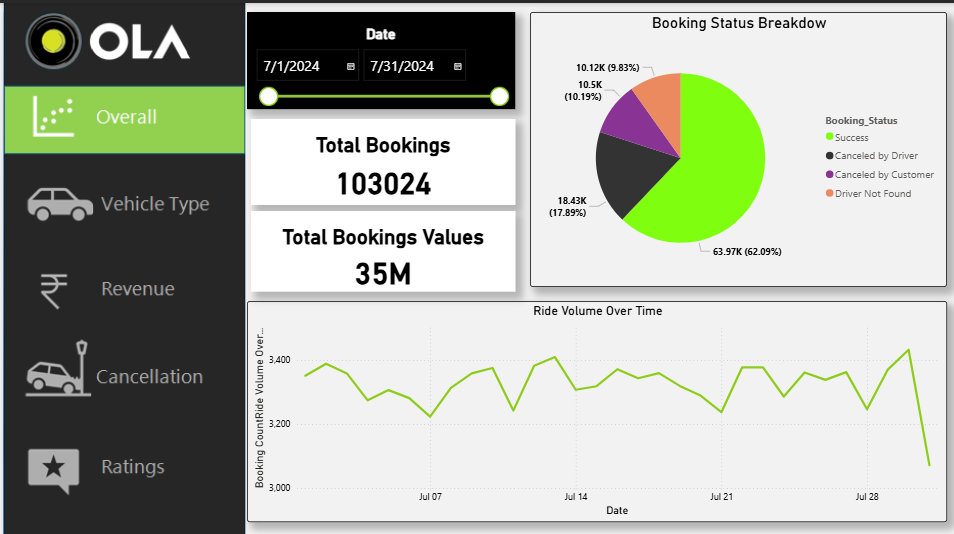

The page's visual inventory and layout, read from the dashboard file:
{"tool":"powerbi","page":{"name":"Overall","canvas":[1280,720],"ordinal":0},"visuals":[{"type":"actionButton","box":[0,212,326.2,92.2],"z":0},{"type":"actionButton","box":[0,333.1,326.2,92.2],"z":1000},{"type":"actionButton","box":[0,454.2,326.2,92.2],"z":2000},{"type":"actionButton","box":[0,579.4,326.2,92.2],"z":3000},{"type":"actionButton","box":[9.6,342.7,316.6,92.2],"z":4000},{"type":"actionButton","box":[0,573.9,326.2,92.2],"z":5000},{"type":"lineChart","title":"Ride Volume Over Time","fields":{"Y":["CountNonNull(July_Sheet.Booking_ID)"],"Category":["July_Sheet.Date"]},"box":[326.8,398.5,937.3,296.5],"z":6000},{"type":"pieChart","title":"Booking Status Breakdow","fields":{"Category":["July_Sheet.Booking_Status"],"Y":["CountNonNull(July_Sheet.Booking_Status)"]},"box":[705.3,12,558.1,368],"z":7000},{"type":"slicer","title":"Date","fields":{"Values":["July_Sheet.Date"]},"box":[326.5,12,358.7,129.8],"z":8000},{"type":"card","title":"Total Bookings","fields":{"Values":["Count(July_Sheet.Booking_ID)"]},"box":[331.6,154.6,353.9,114.8],"z":9000},{"type":"card","title":"Total Bookings Values","fields":{"Values":["Sum(July_Sheet.Booking_Value)"]},"box":[331.6,279,353.9,108.4],"z":10000}]}

Visuals, with their boxes in screenshot pixels (x1, y1, x2, y2), scaled from the page's 1280x720 canvas onto the 954x534 screenshot:
actionButton: [x1=0, y1=157, x2=243, y2=226]
actionButton: [x1=0, y1=247, x2=243, y2=315]
actionButton: [x1=0, y1=337, x2=243, y2=405]
actionButton: [x1=0, y1=430, x2=243, y2=498]
actionButton: [x1=7, y1=254, x2=243, y2=323]
actionButton: [x1=0, y1=426, x2=243, y2=494]
"Ride Volume Over Time" lineChart: [x1=244, y1=296, x2=942, y2=515]
"Booking Status Breakdow" pieChart: [x1=526, y1=9, x2=942, y2=282]
"Date" slicer: [x1=243, y1=9, x2=511, y2=105]
"Total Bookings" card: [x1=247, y1=115, x2=511, y2=200]
"Total Bookings Values" card: [x1=247, y1=207, x2=511, y2=287]
